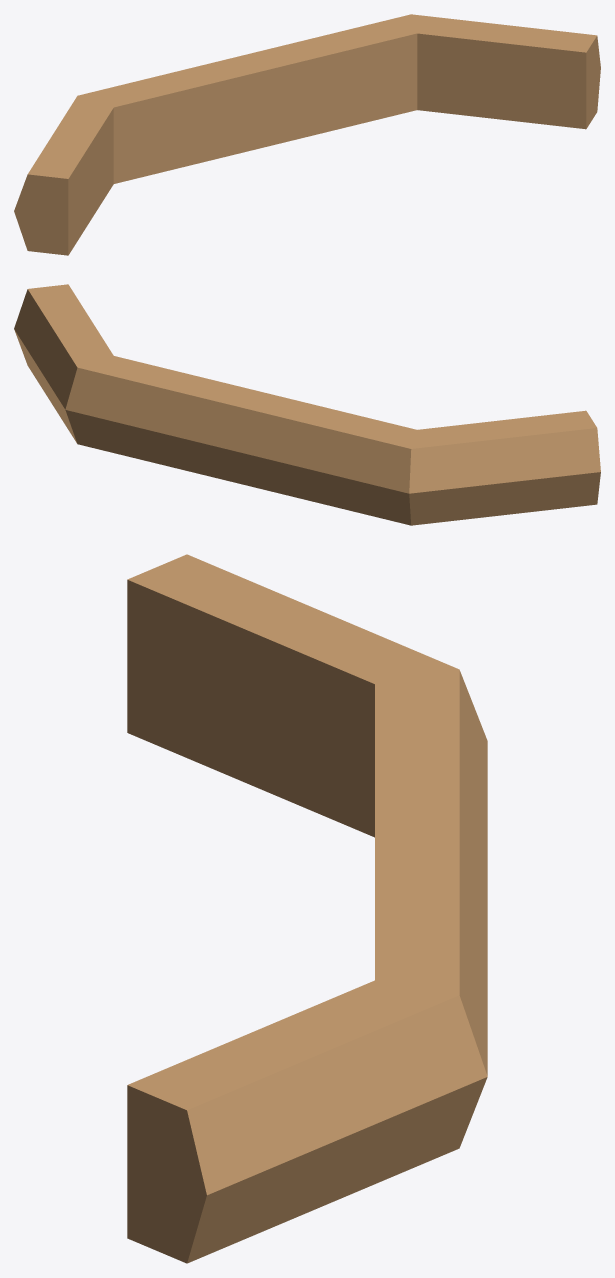
File: Tower_Decoration_Base.fbx
The picture shows the model from 3 angles, top to bottom: view 1: azimuth 30°, elevation 25°; view 2: azimuth 150°, elevation 25°; view 3: azimuth 270°, elevation 25°; orthographic projection. The views are drawn at different scales.
Parts seen in each view (by area): view 1: object1; view 2: object1; view 3: object1.
Boxes of the visible parts, box(x1,y1,x2,y2) form: object1: box(14, 14, 600, 255); object1: box(14, 284, 600, 525); object1: box(127, 554, 487, 1263).
Bounding box in the file's own units: 2.4 × 0.3 × 0.6393.
